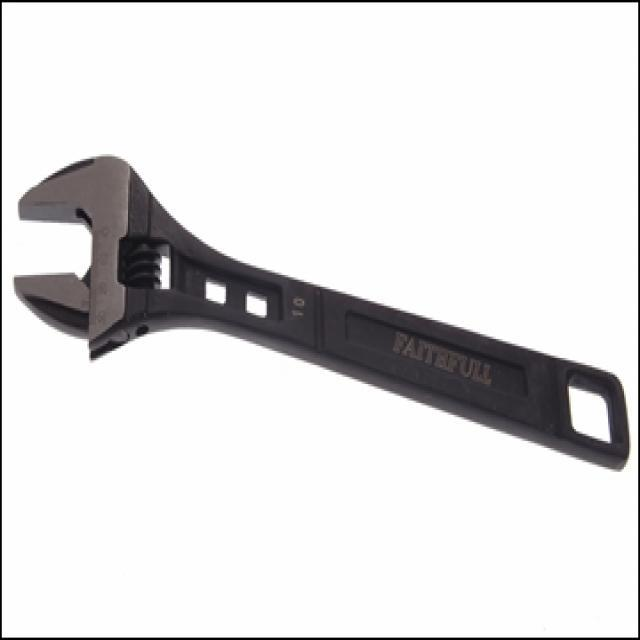wrench: (6, 140, 632, 472)
